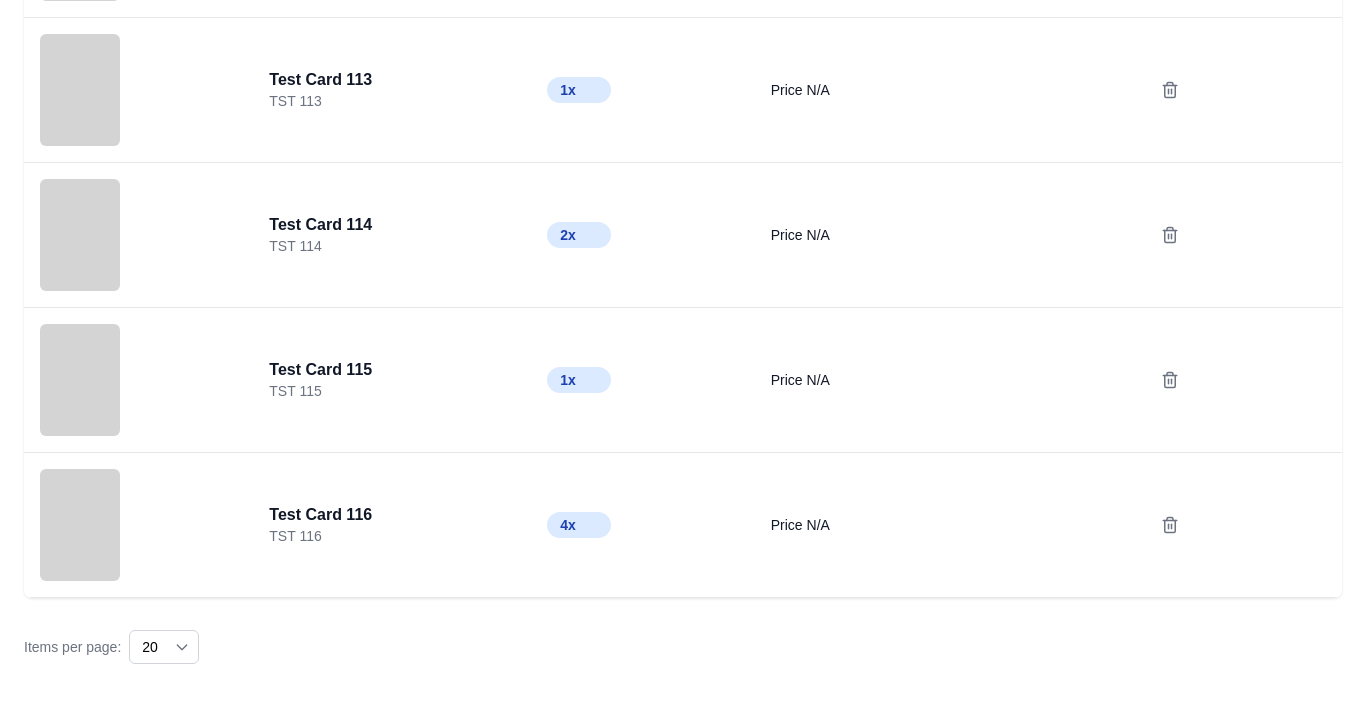
Pagination - Page Size Selector › displays 50 items per page when page size is changed to 50
(page scrolled)
// Change page size to 50
Select "50" in the dropdown labelled "Items per page:" at (164, 647), box [129, 630, 199, 664]
(page scrolled)
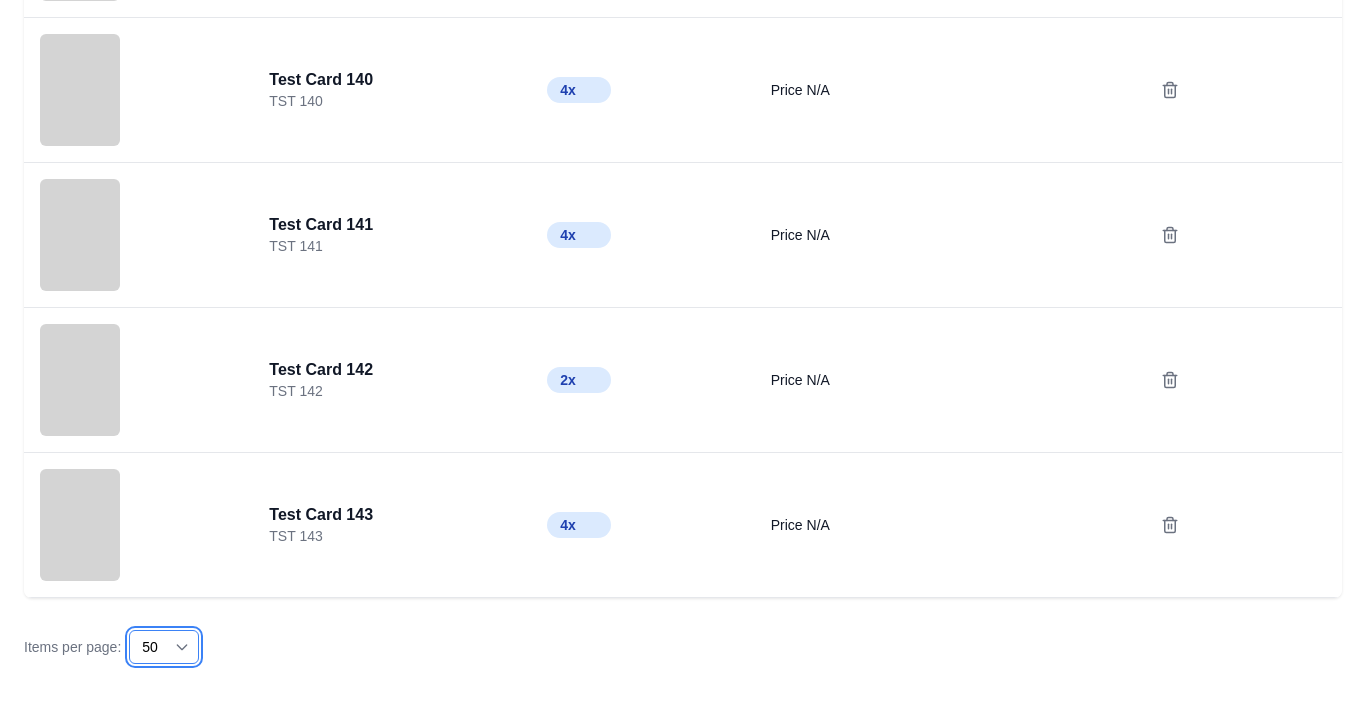
expect the text "Test Card 143" is shown: met, box [269, 506, 373, 523]
